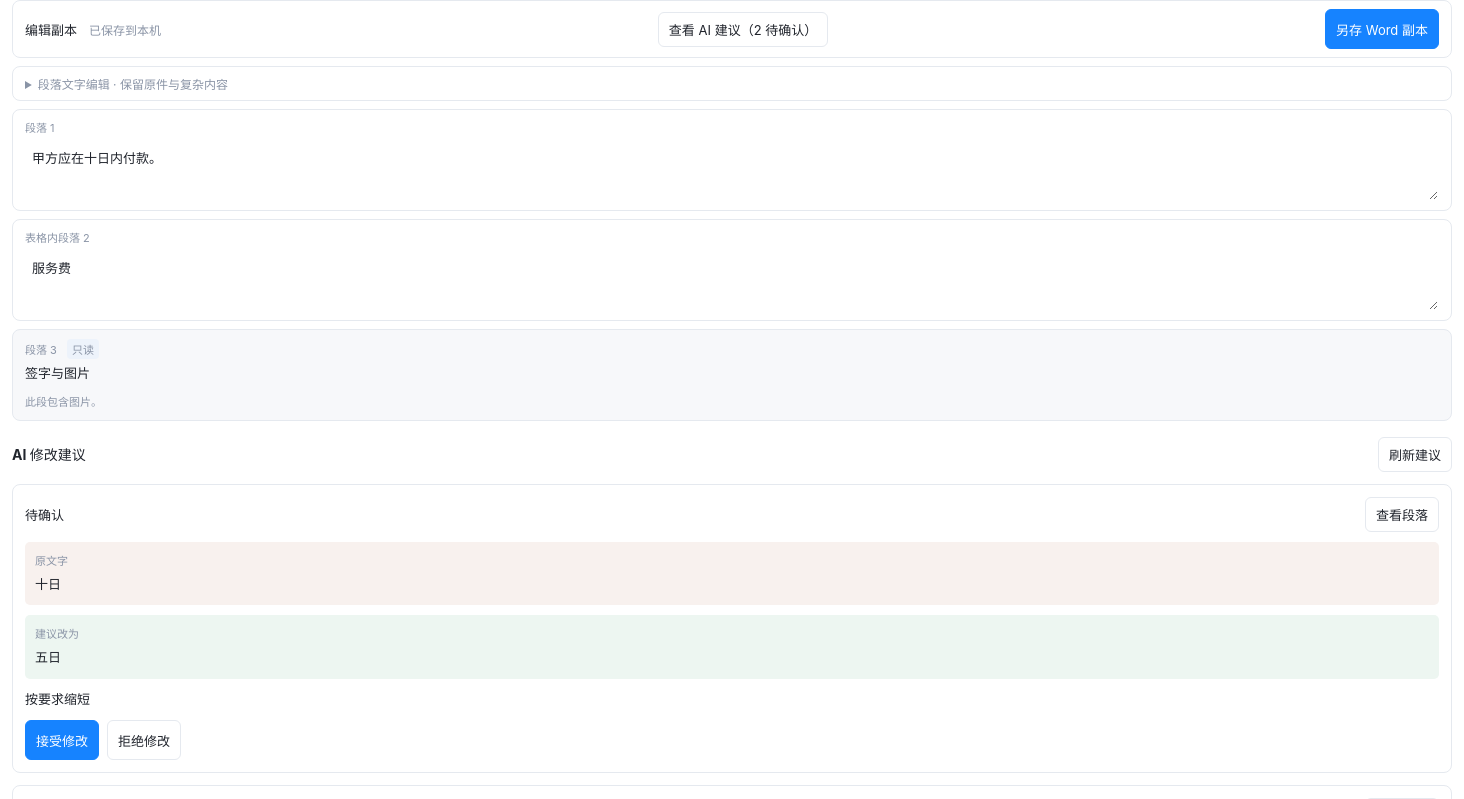
Scenario: contract editor user workflow › allows one suggested change to be accepted, then undone, and disables stale proposals
This screenshot has width=1464, height=799.
Expected: the text "按要求缩短" is shown, [25, 691, 90, 707]
Click the button "接受修改": x=62, y=740 [25, 720, 99, 760]
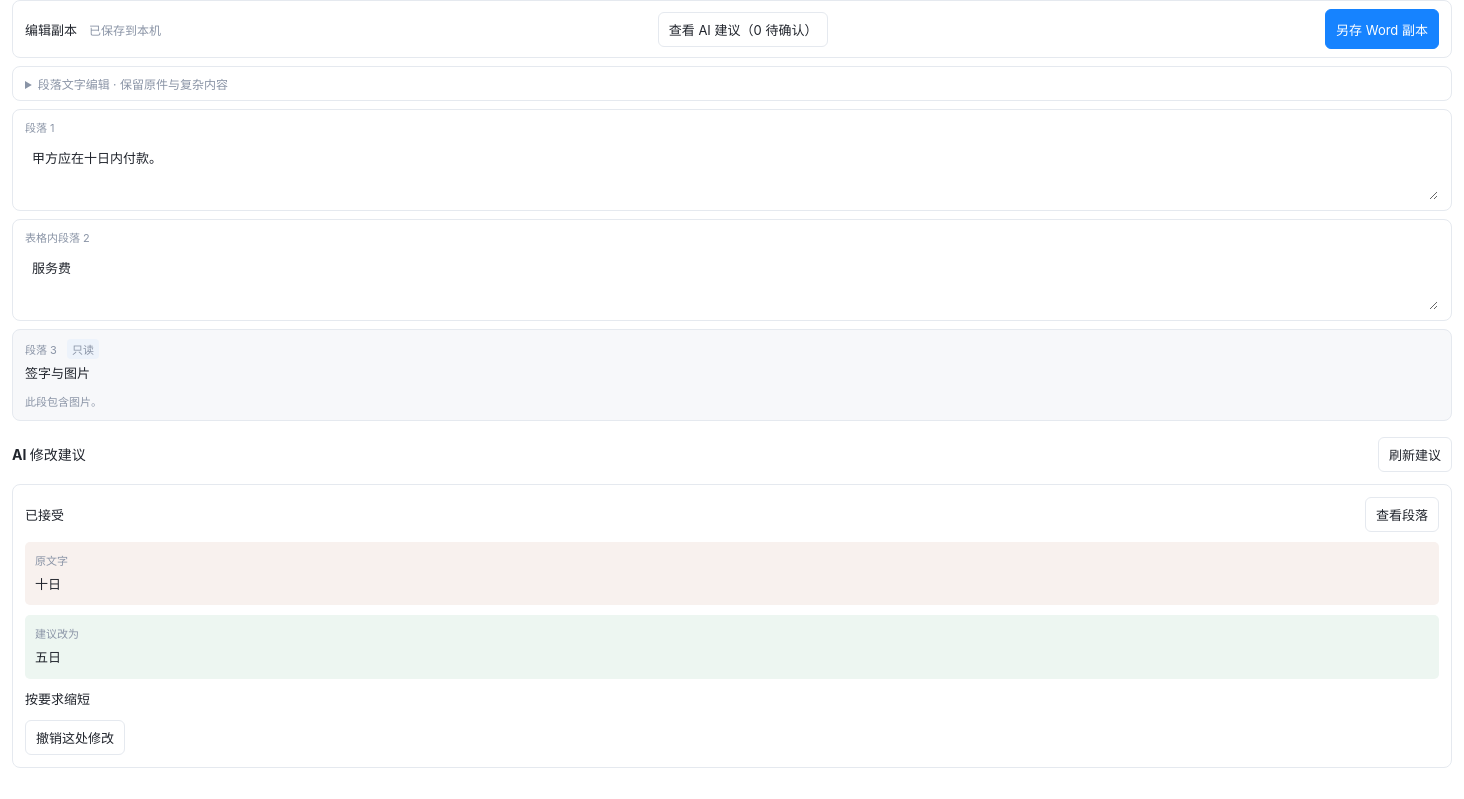
Click the button "撤销这处修改": x=75, y=738 [25, 720, 125, 755]
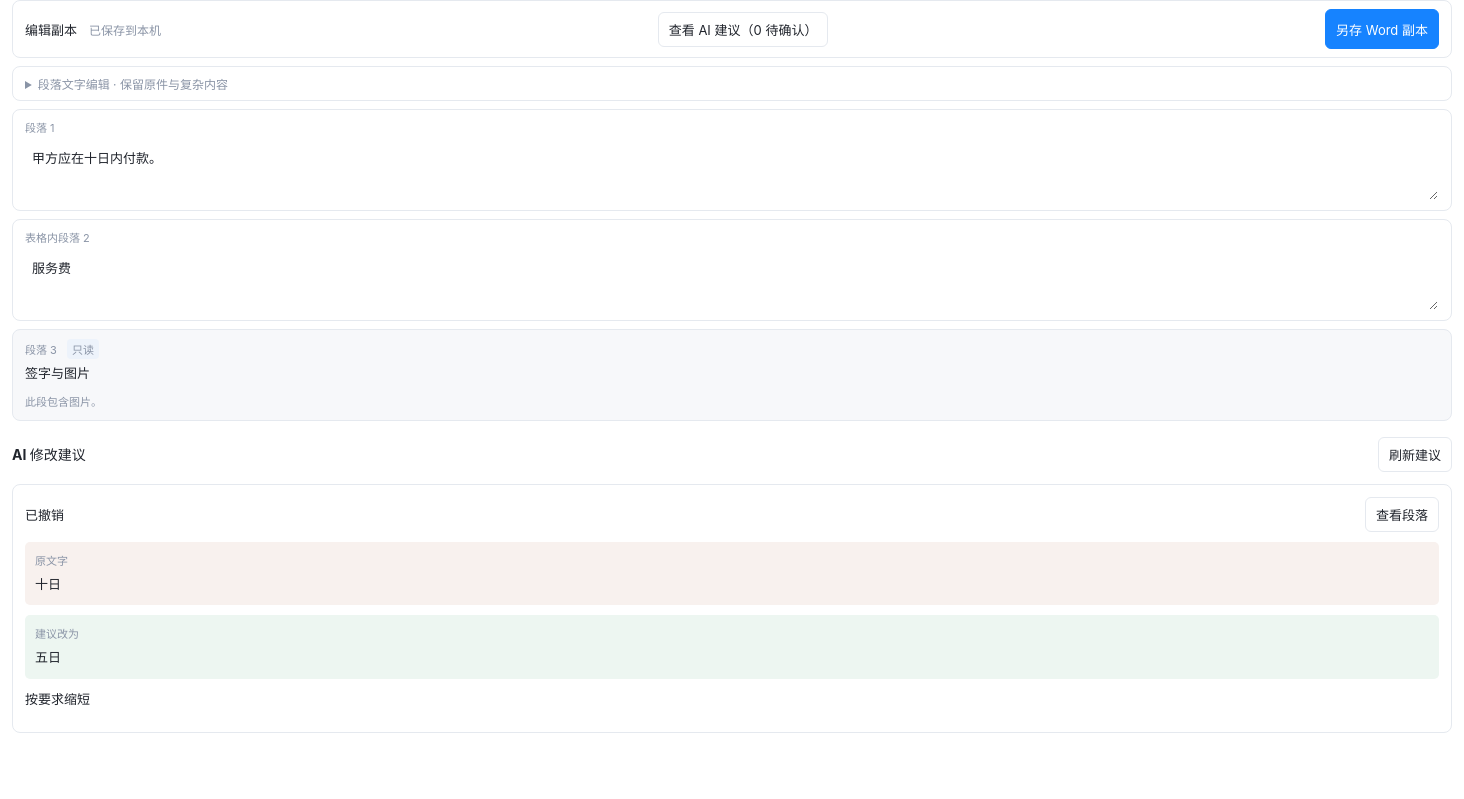
Expected: the text "已撤销" is shown, [25, 505, 64, 524]
